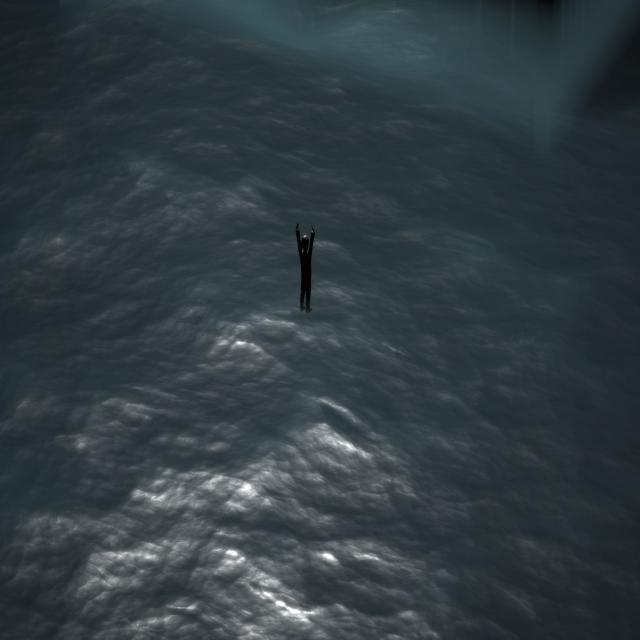Human: (294, 215, 318, 317)
